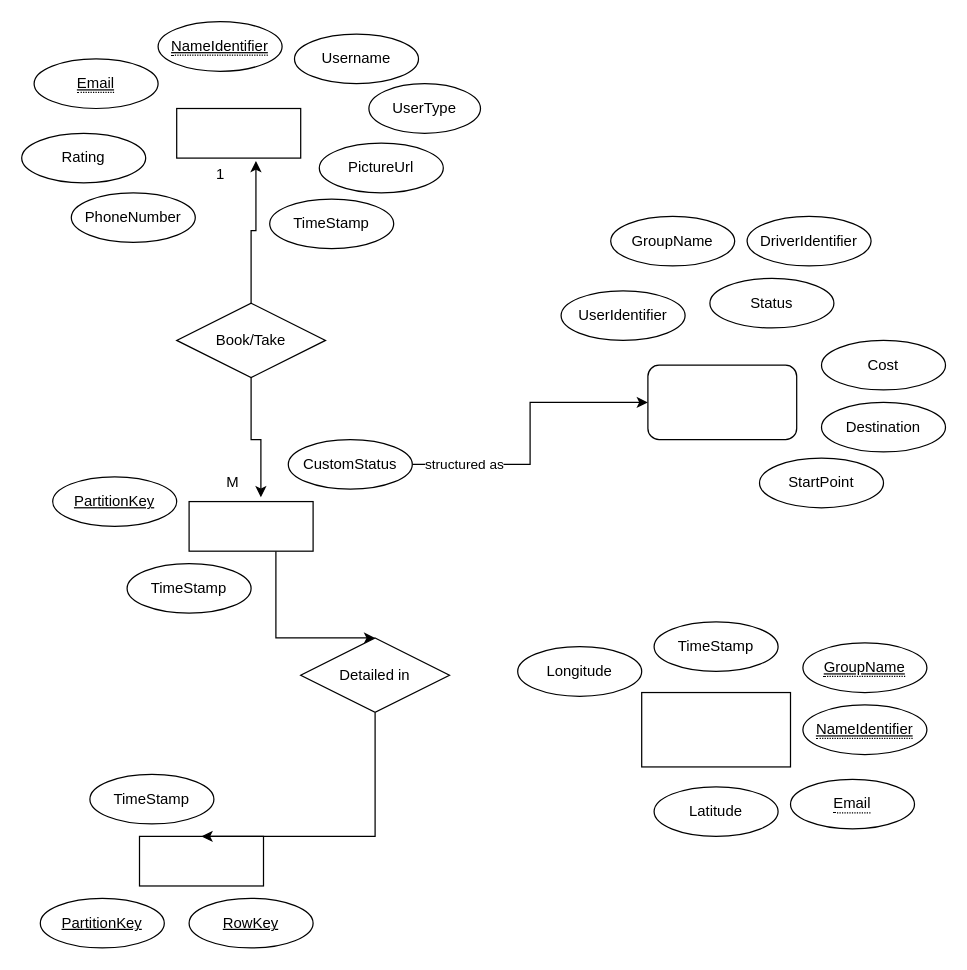
This 967x970 diagram has some shape labels left out. Each missing label, with the box of its shape:
OnlineDrivers: (640, 691, 790, 767)
Ride: (647, 364, 797, 440)
TaskHubHistory: (138, 835, 264, 886)
TaskHubInstances: (188, 500, 313, 551)
Users: (175, 107, 301, 158)
